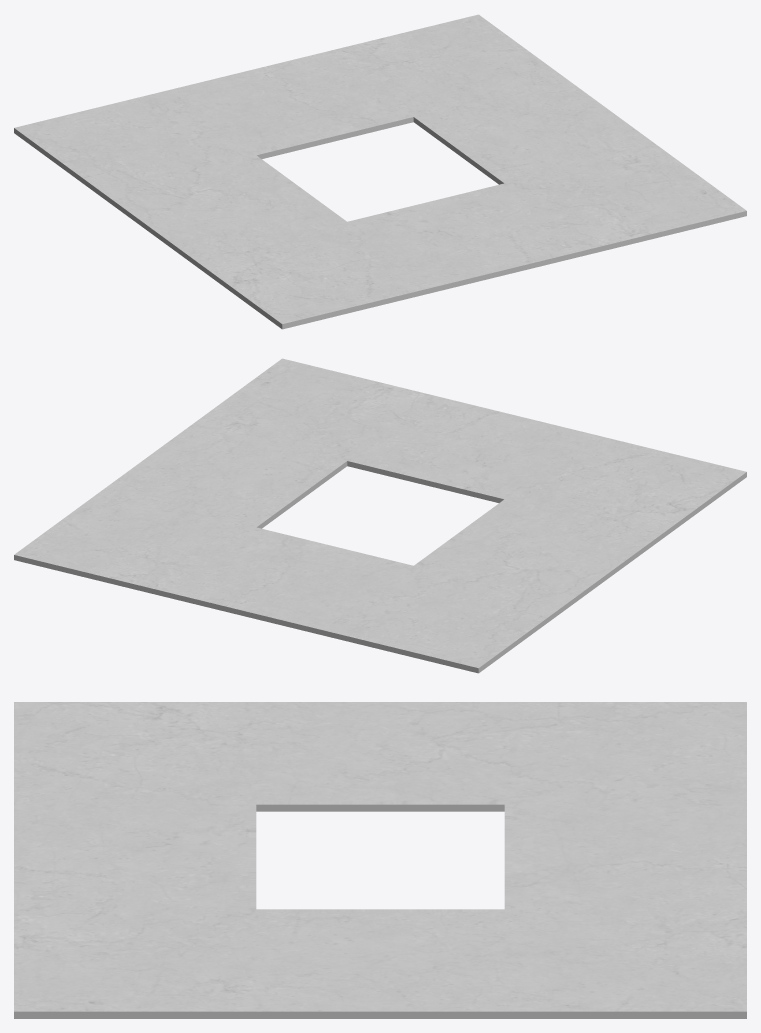
Rendered from floor_iisc_exterior.dae.
3 views of the same model, one above another, from view 1: azimuth 30°, elevation 25°; view 2: azimuth 150°, elevation 25°; view 3: azimuth 270°, elevation 25° (orthographic). The views are drawn at different scales.
Parts seen in each view (by area): view 1: floor_iisc_exterior; view 2: floor_iisc_exterior; view 3: floor_iisc_exterior.
Boxes of the visible parts, bbox=[...] form: floor_iisc_exterior: bbox=[14, 14, 746, 329]; floor_iisc_exterior: bbox=[14, 358, 746, 673]; floor_iisc_exterior: bbox=[14, 702, 746, 1018].
Size of the model in its own units: 9.28 by 9.28 by 0.1.
1 material, 1 textured.
